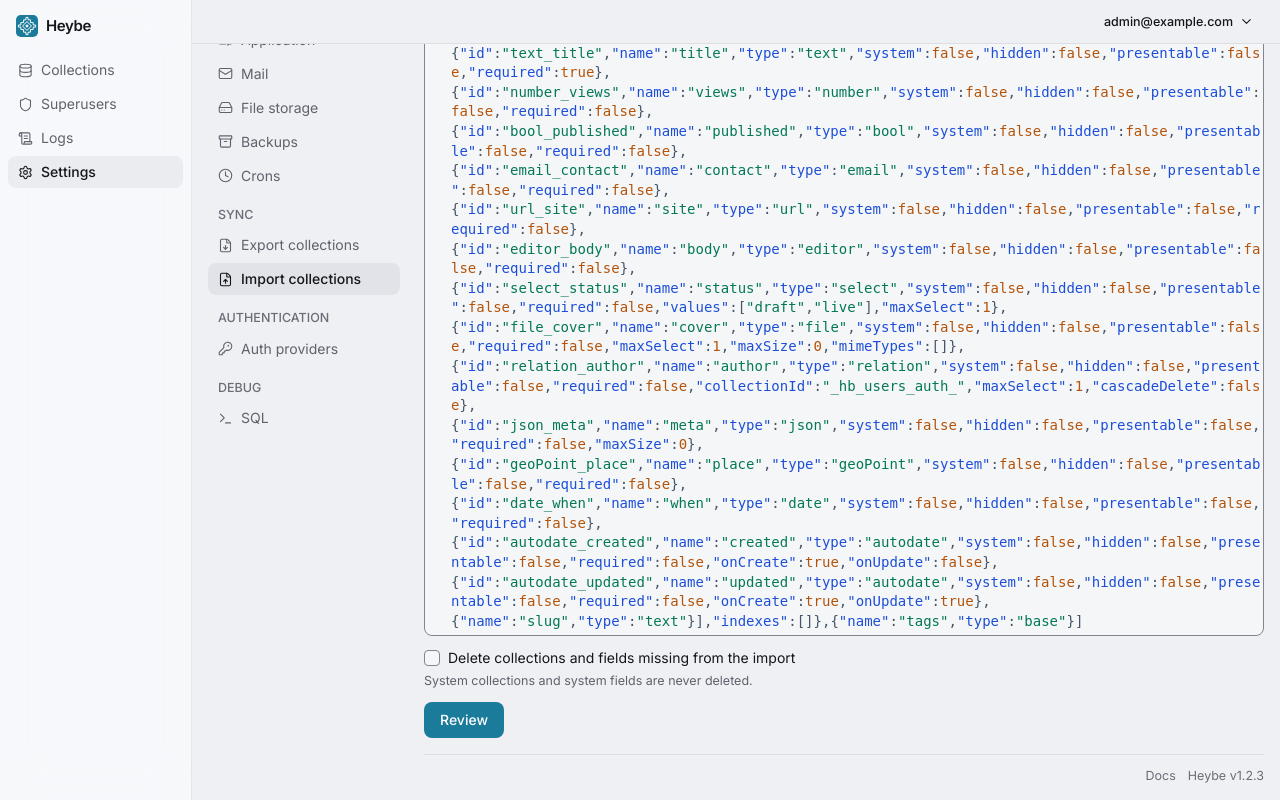
Test: Import PUTs collections without deleteMissing after the review
(page scrolled)
Click the button "Review" at (464, 720), box [424,702,504,738]
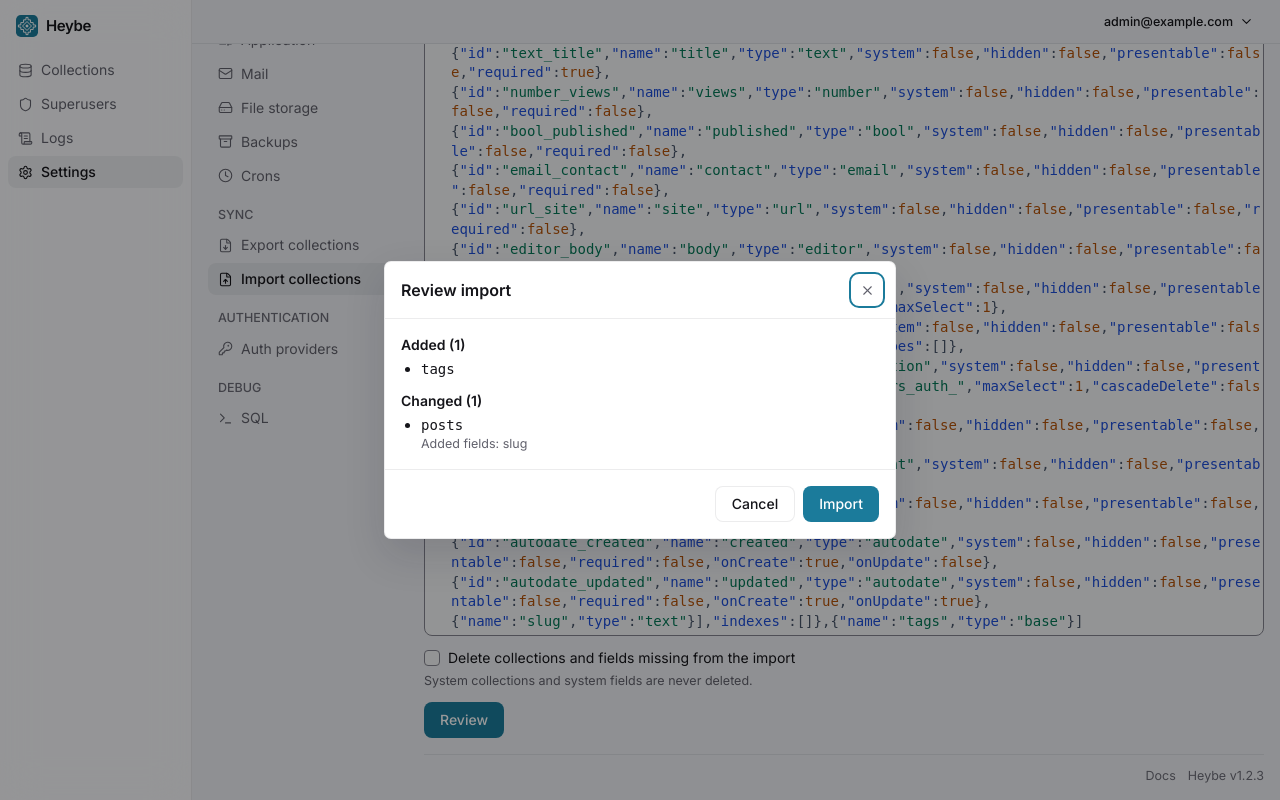
Now the heading "Added (1)" is shown, box [401,336,465,353]
Now the text "tags" is shown, box [421,361,455,377]
Now the text "posts" is shown, box [421,417,463,433]
Click the button "Import" at (841, 504), box [803,486,879,522]
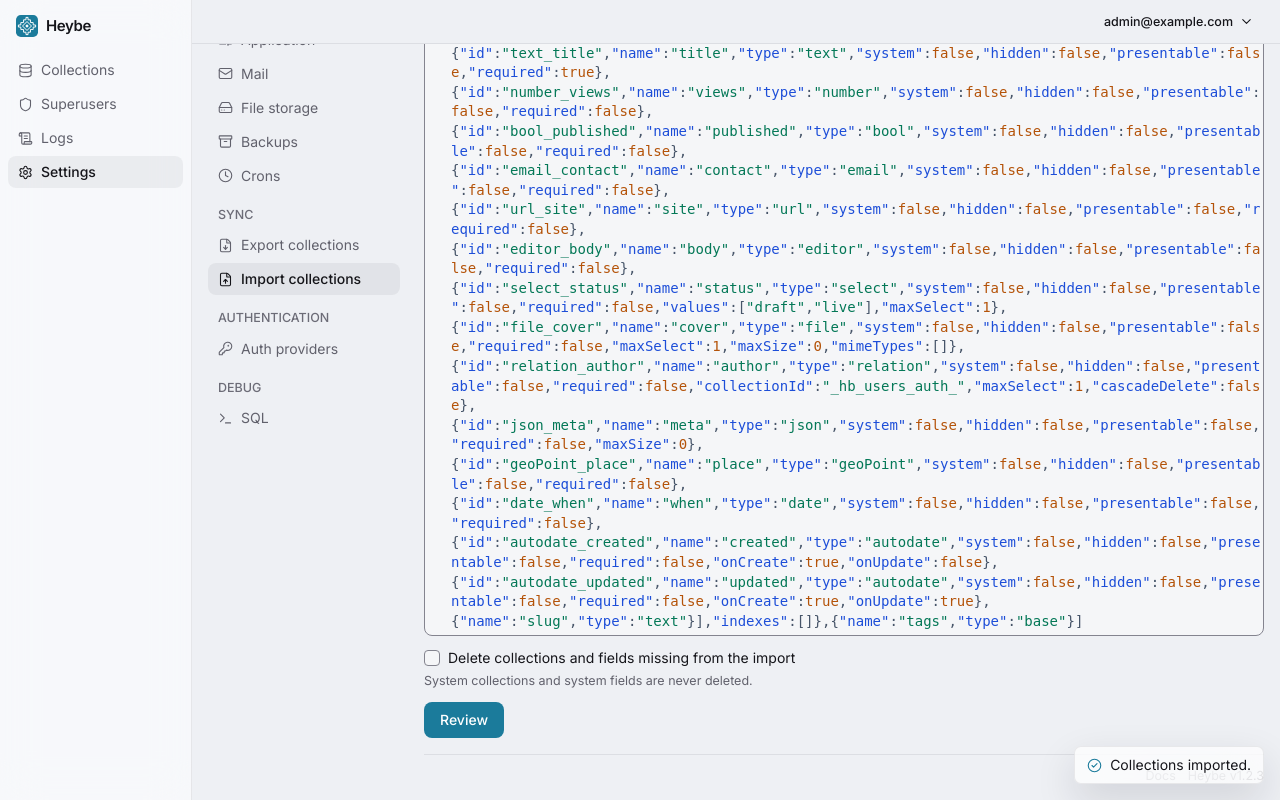
Now the text "Collections imported." is shown, box [1074,746,1264,784]
